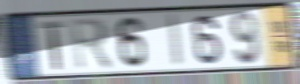6: (114, 15, 149, 70), (191, 13, 224, 66)
9: (230, 9, 264, 67)
I: (166, 12, 186, 69)
R: (69, 16, 115, 73)
T: (38, 20, 66, 72)
